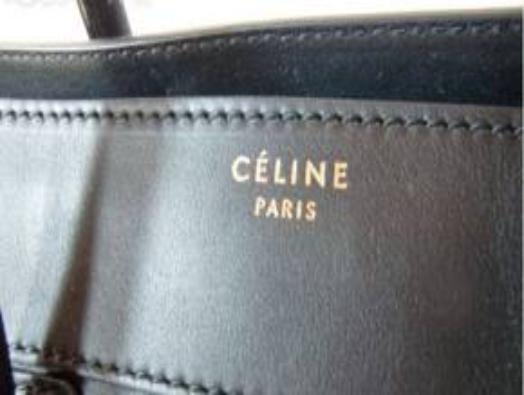CELINE: (227, 145, 348, 195)
